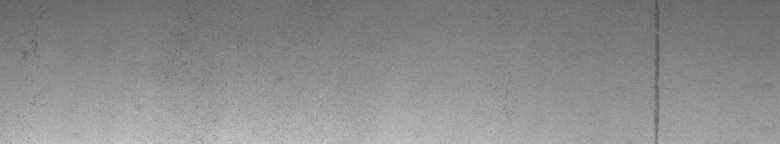hd: (641, 4, 666, 136)
